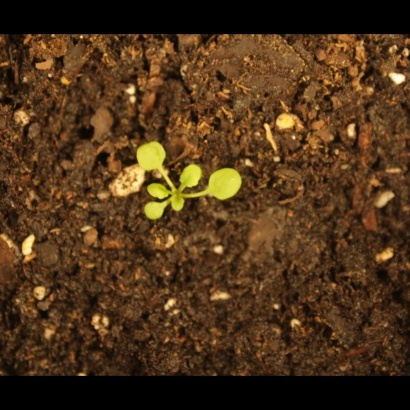leaf: (204, 166, 249, 205), (128, 140, 175, 173), (174, 160, 207, 192), (139, 198, 170, 228), (145, 181, 171, 204), (166, 191, 189, 214)
